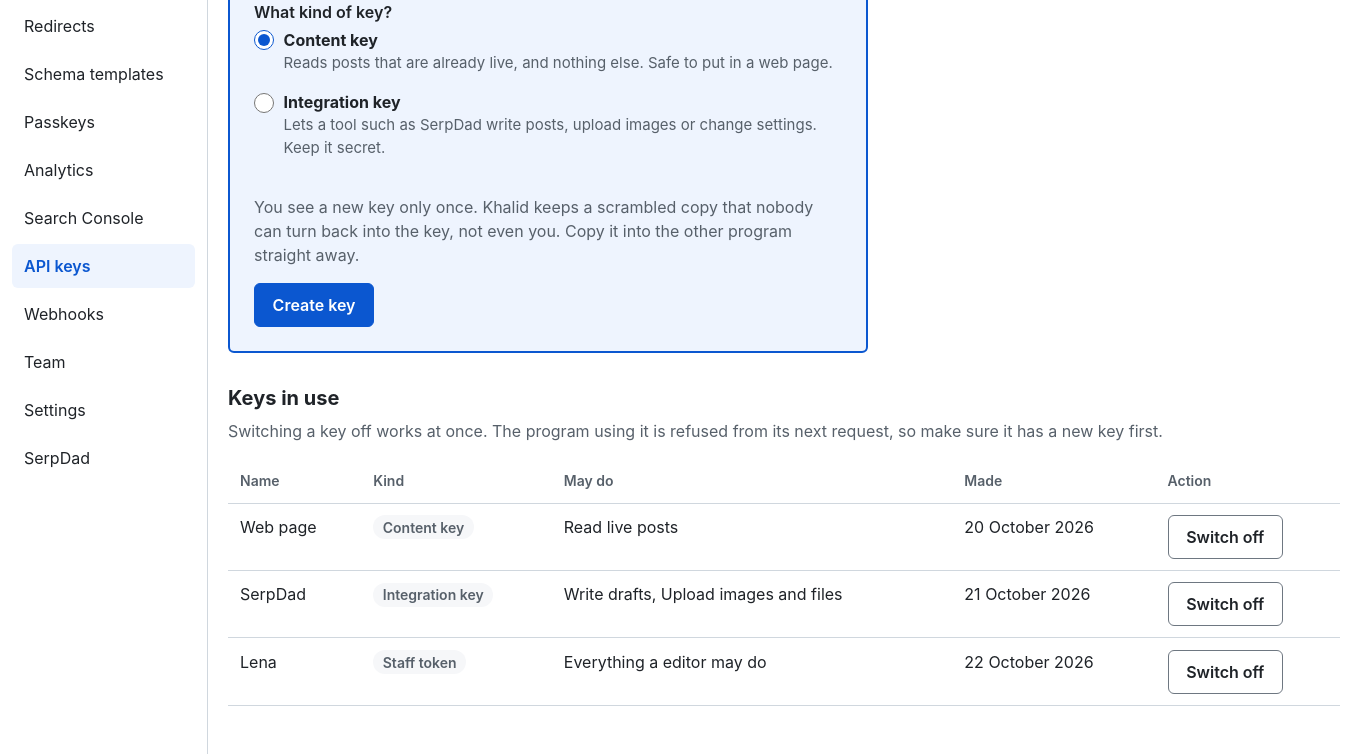
Test case: the API keys screen › explains why the key in use cannot be switched off
(page scrolled)
Click the button "Switch off" in the row of "Write drafts, Upload images and files".
click(1225, 604)  # box top-left (1168, 582), bottom-right (1283, 626)
(page scrolled)
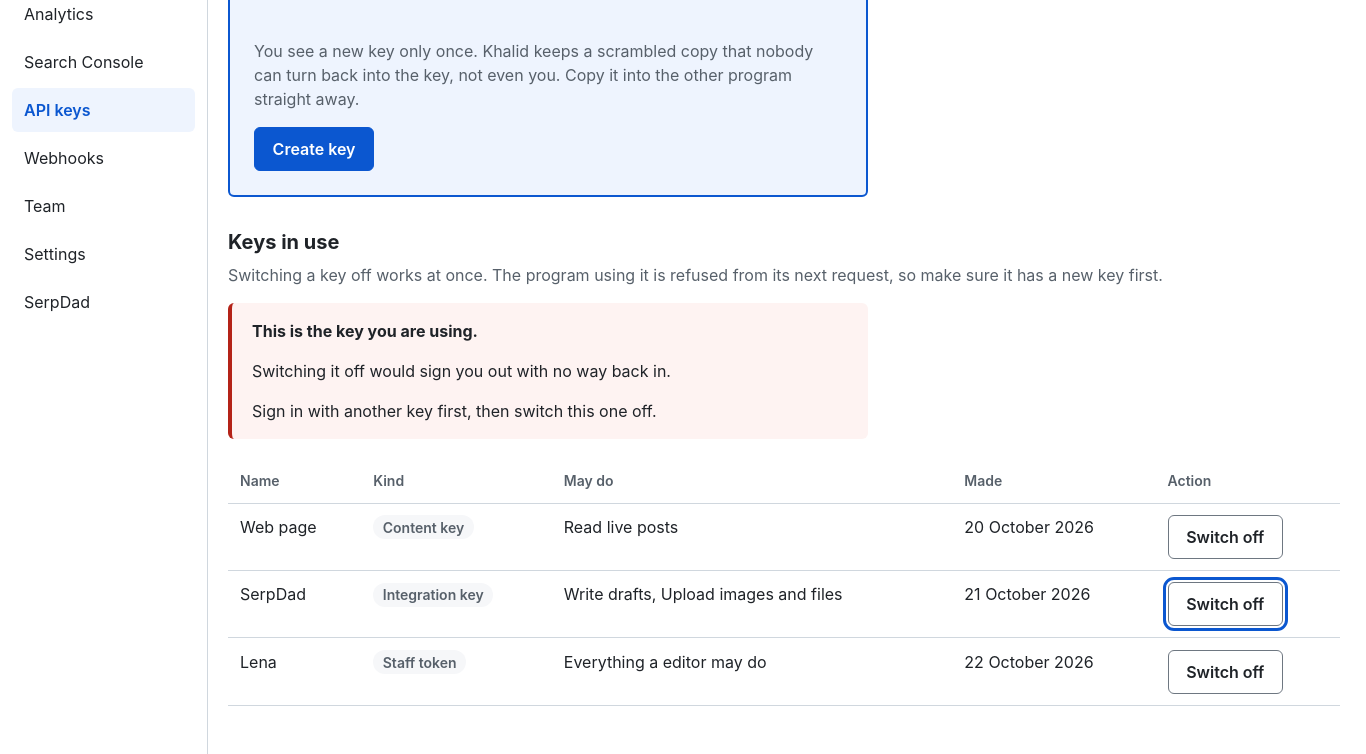
Expected: the text "SerpDad" is shown, top-left (228, 570), bottom-right (361, 638)
Result: the message shows "This is the key you are using." at top-left (252, 321), bottom-right (478, 341)
